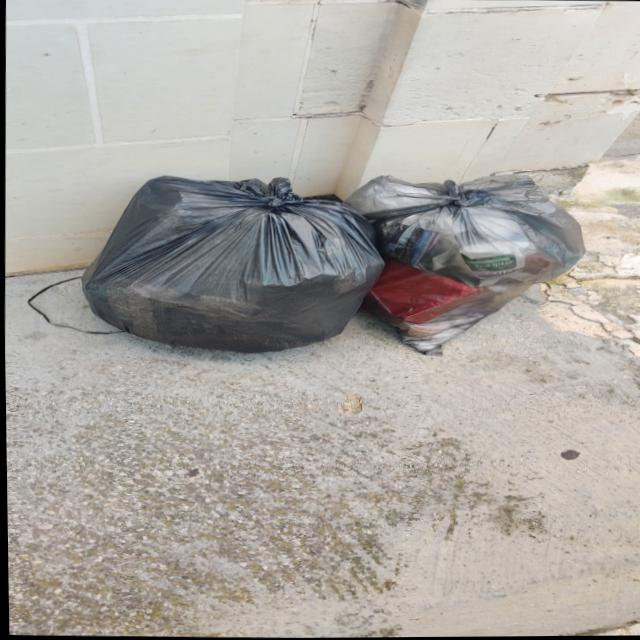Mixed Waste -Black Bags-: (78, 174, 588, 357)
